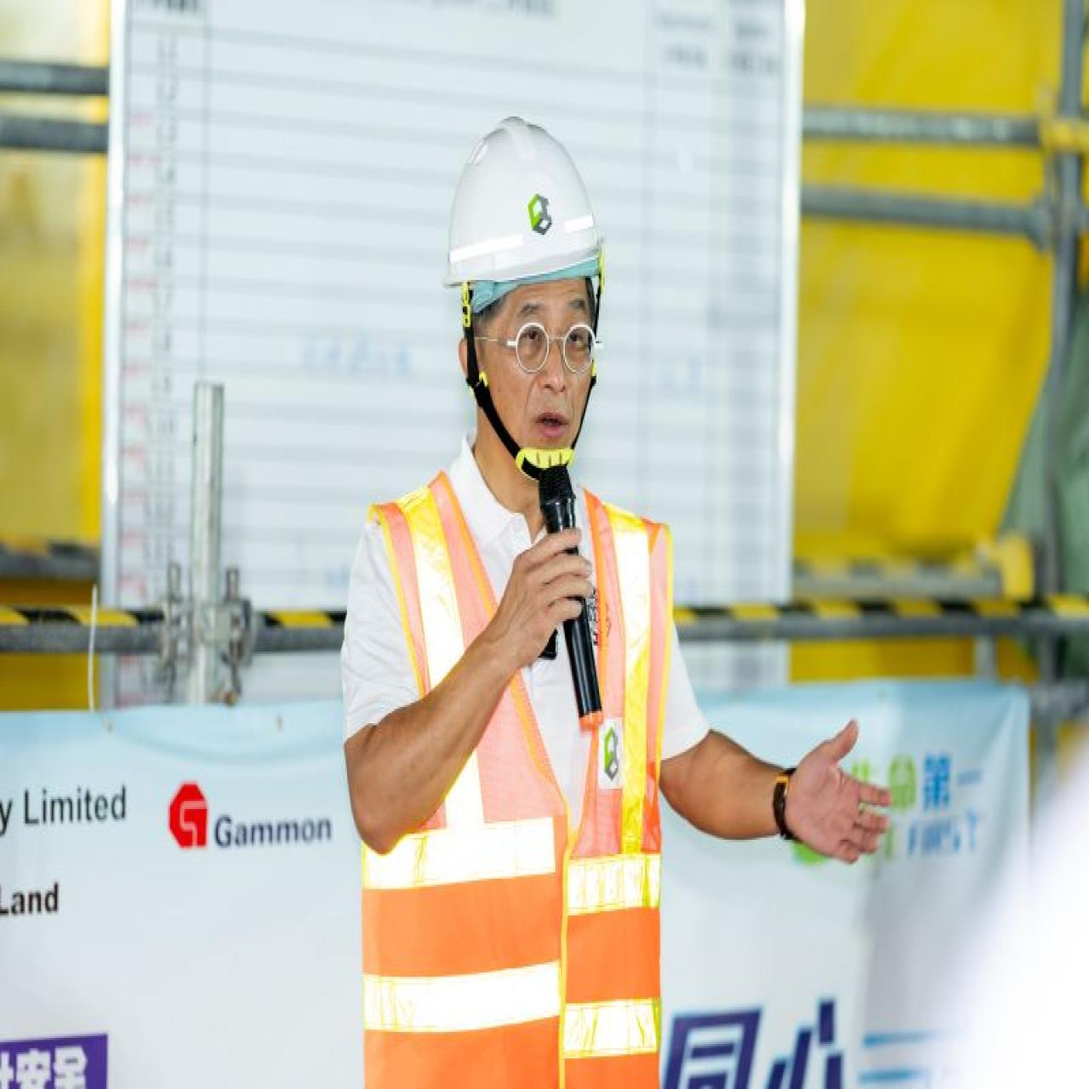Person: (305, 88, 885, 1089)
Safety_Vest: (346, 474, 670, 1089)
